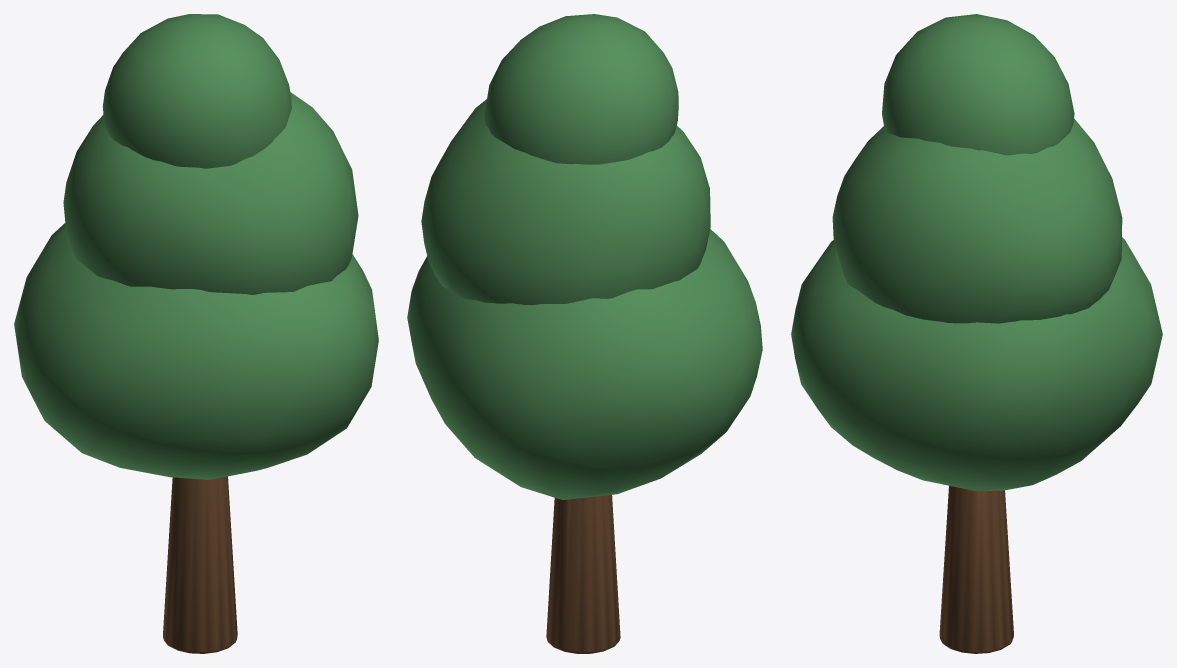
Rendered from tree_a.glb.
The picture shows the model from 3 angles, left to right: view 1: azimuth 30°, elevation 25°; view 2: azimuth 150°, elevation 25°; view 3: azimuth 270°, elevation 25°; orthographic projection.
Parts seen in each view (by area): view 1: f1, f2, f3, trunk; view 2: f1, f2, f3, trunk; view 3: f1, f2, f3, trunk.
Part boxes in pixels (<box>): f1: <box>14,223,378,479</box>; f2: <box>63,92,358,294</box>; f3: <box>102,14,291,168</box>; trunk: <box>163,476,237,653</box>; f1: <box>407,229,762,499</box>; f2: <box>421,99,710,305</box>; f3: <box>484,14,678,164</box>; trunk: <box>546,495,620,653</box>; f1: <box>791,237,1162,491</box>; f2: <box>832,118,1122,323</box>; f3: <box>882,14,1074,155</box>; trunk: <box>939,485,1013,653</box>.
Bounding box in the file's own units: 1.24 × 2.32 × 1.27.
